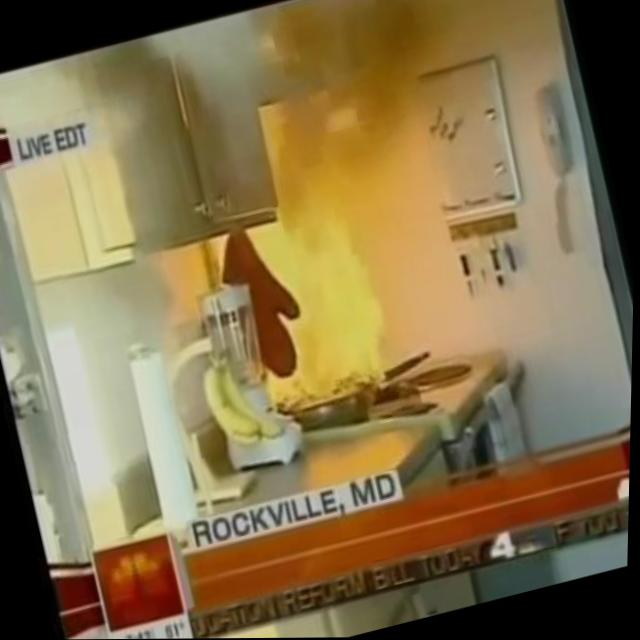fire: (211, 192, 404, 418)
